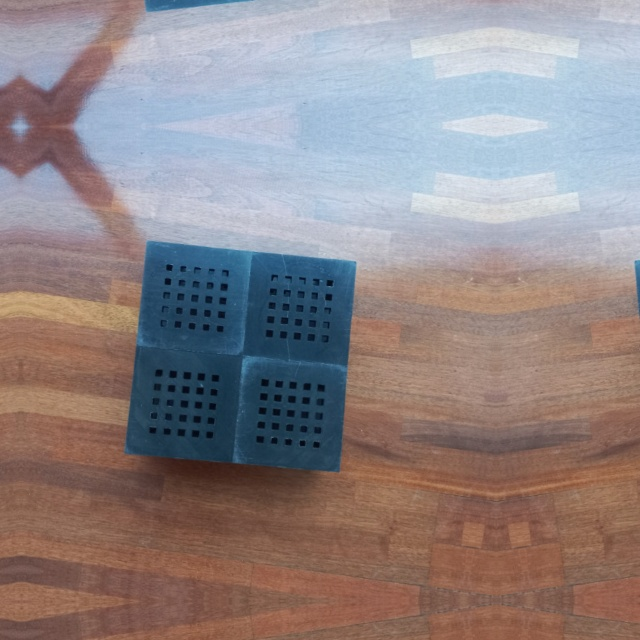pallet: (118, 234, 363, 477)
